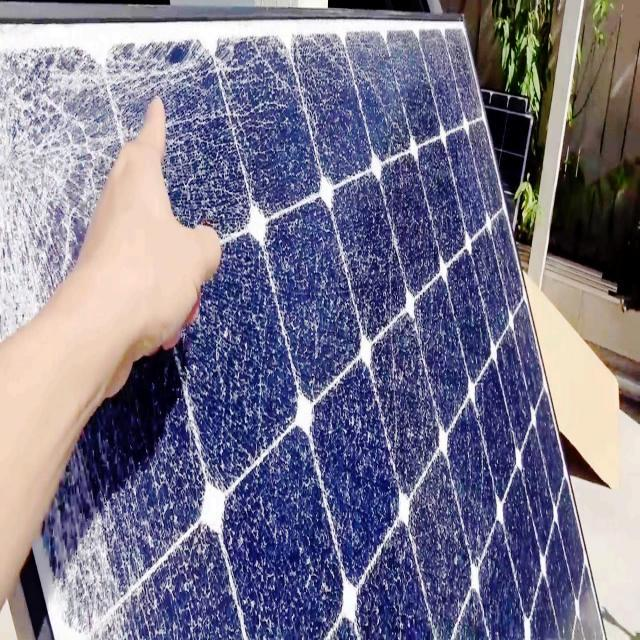faulty: (2, 8, 610, 639)
